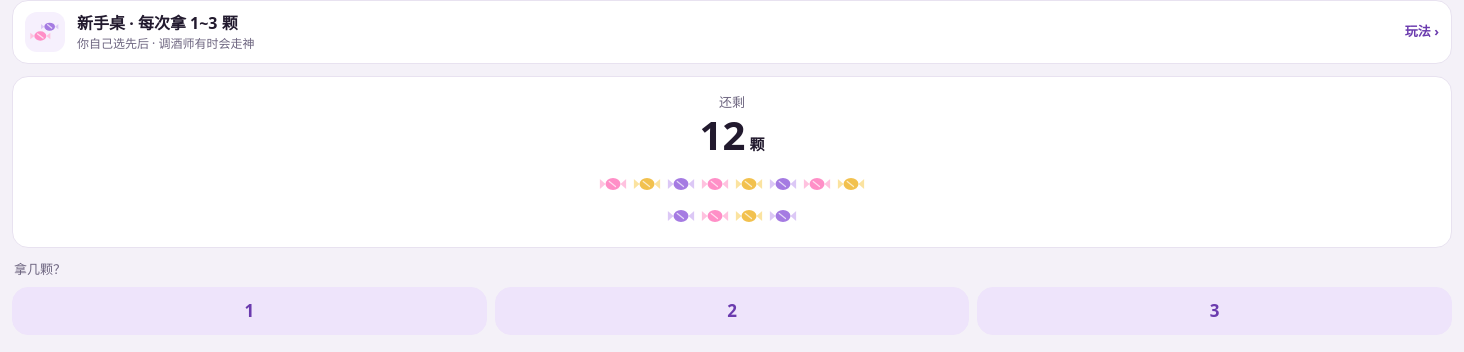
Test case: NimPanel › 局已经没了（no_round）：清掉局面、重新读
The image size is (1464, 352).
Click the button with test id "nim-take-1". click: (249, 311)
box: [12,287,487,335]
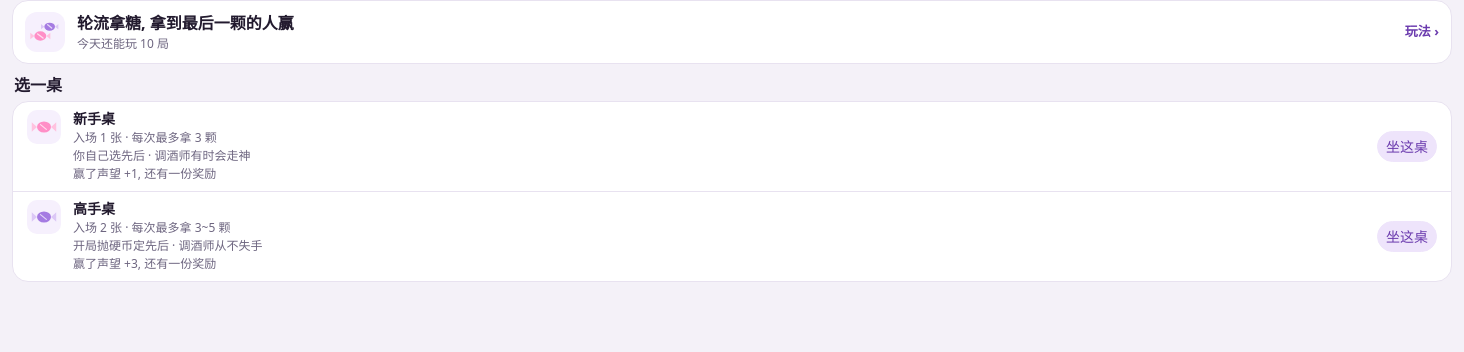
expect the button with test id "nim-start-novice" is shown: met, box [1377,131,1437,162]
